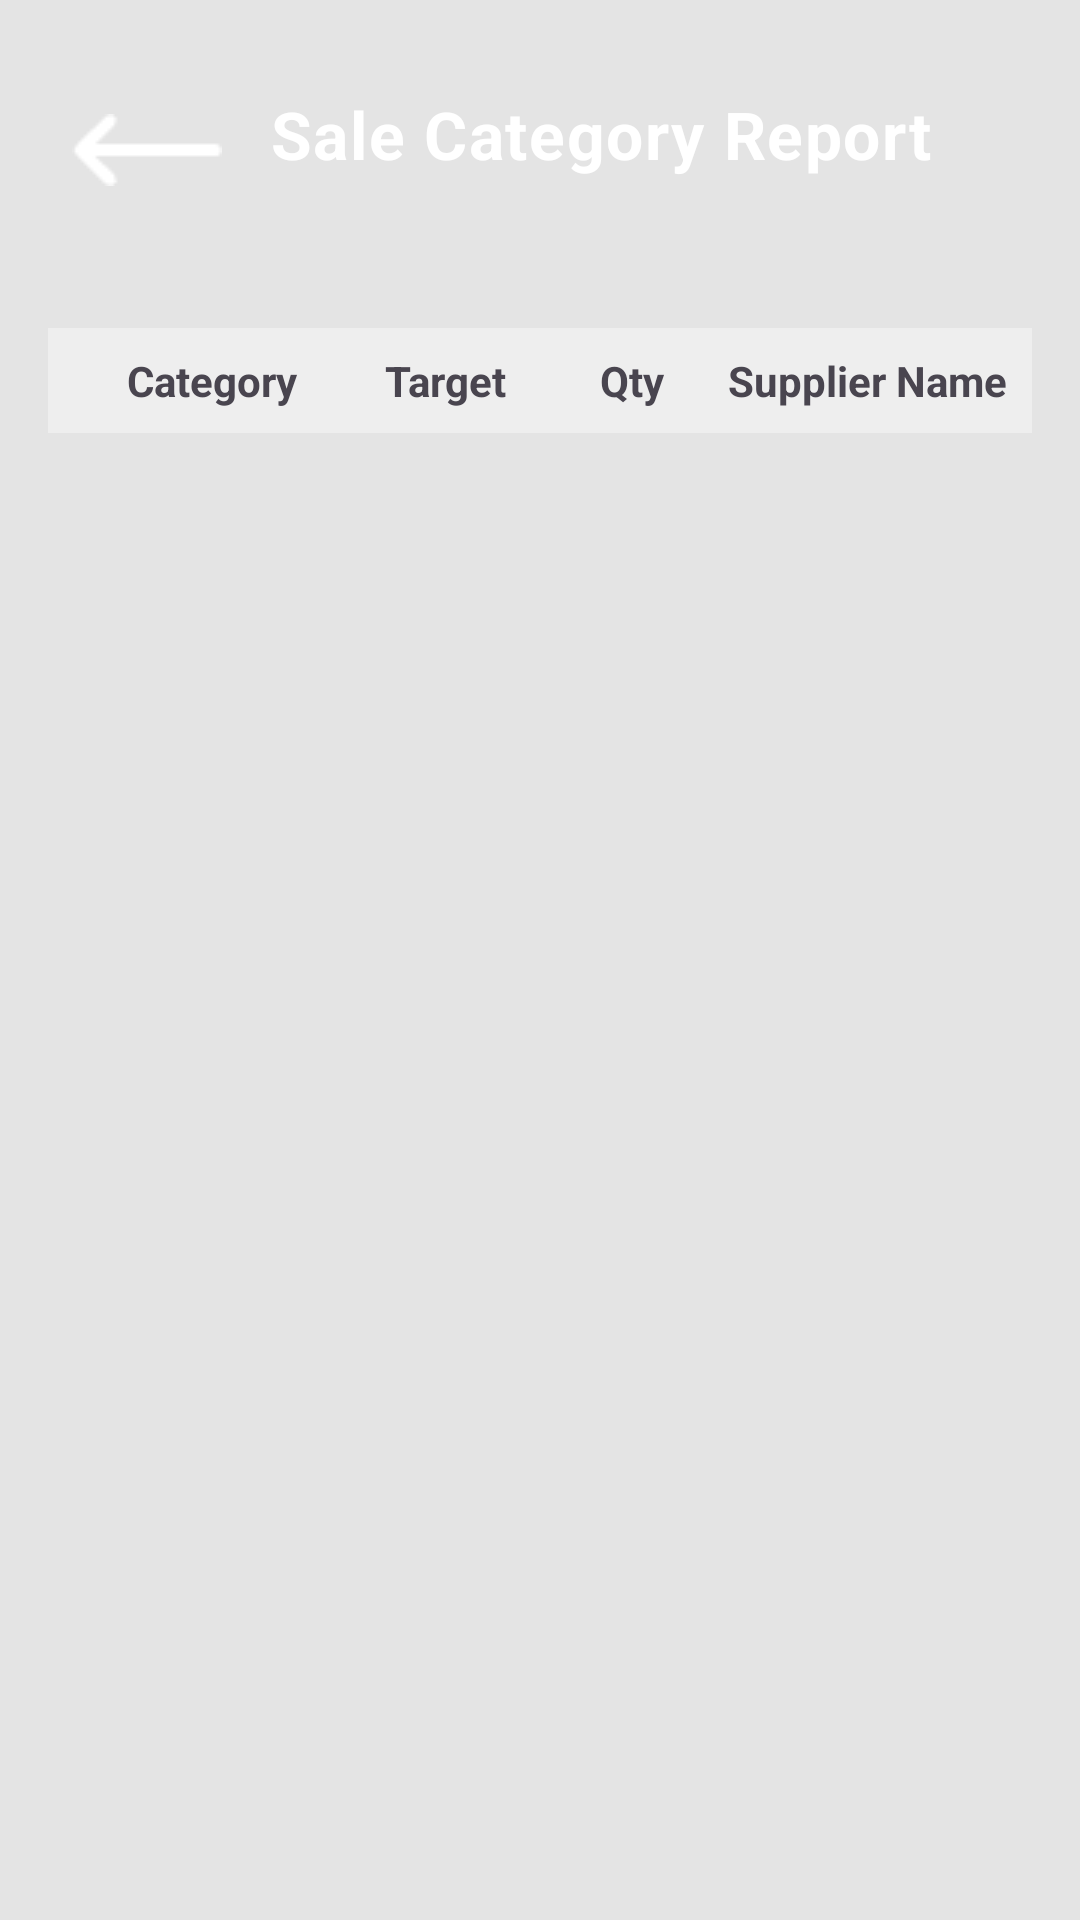

Icons on this 1080x1920 Android screen, each with the point to tap as (x=x, y=y):
arrow cal: (x=147, y=150)
